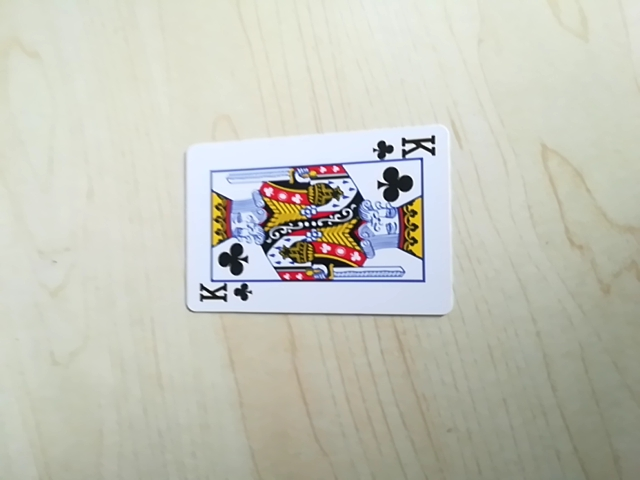mh k: (193, 279, 254, 311), (373, 133, 442, 161)
